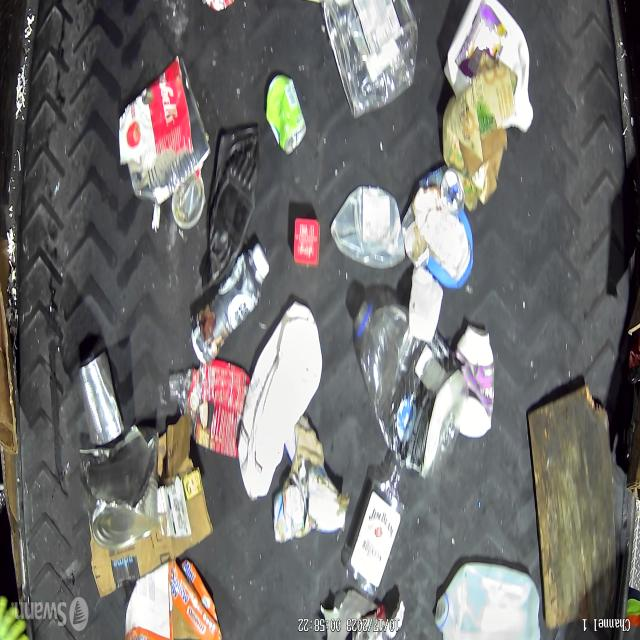can: (127, 57, 210, 205), (79, 423, 159, 549), (78, 348, 124, 444), (267, 75, 307, 155), (202, 1, 240, 14)
milk_jug: (238, 304, 322, 500), (444, 0, 533, 132), (434, 560, 544, 640)
plastic_bottle: (353, 302, 469, 480)
